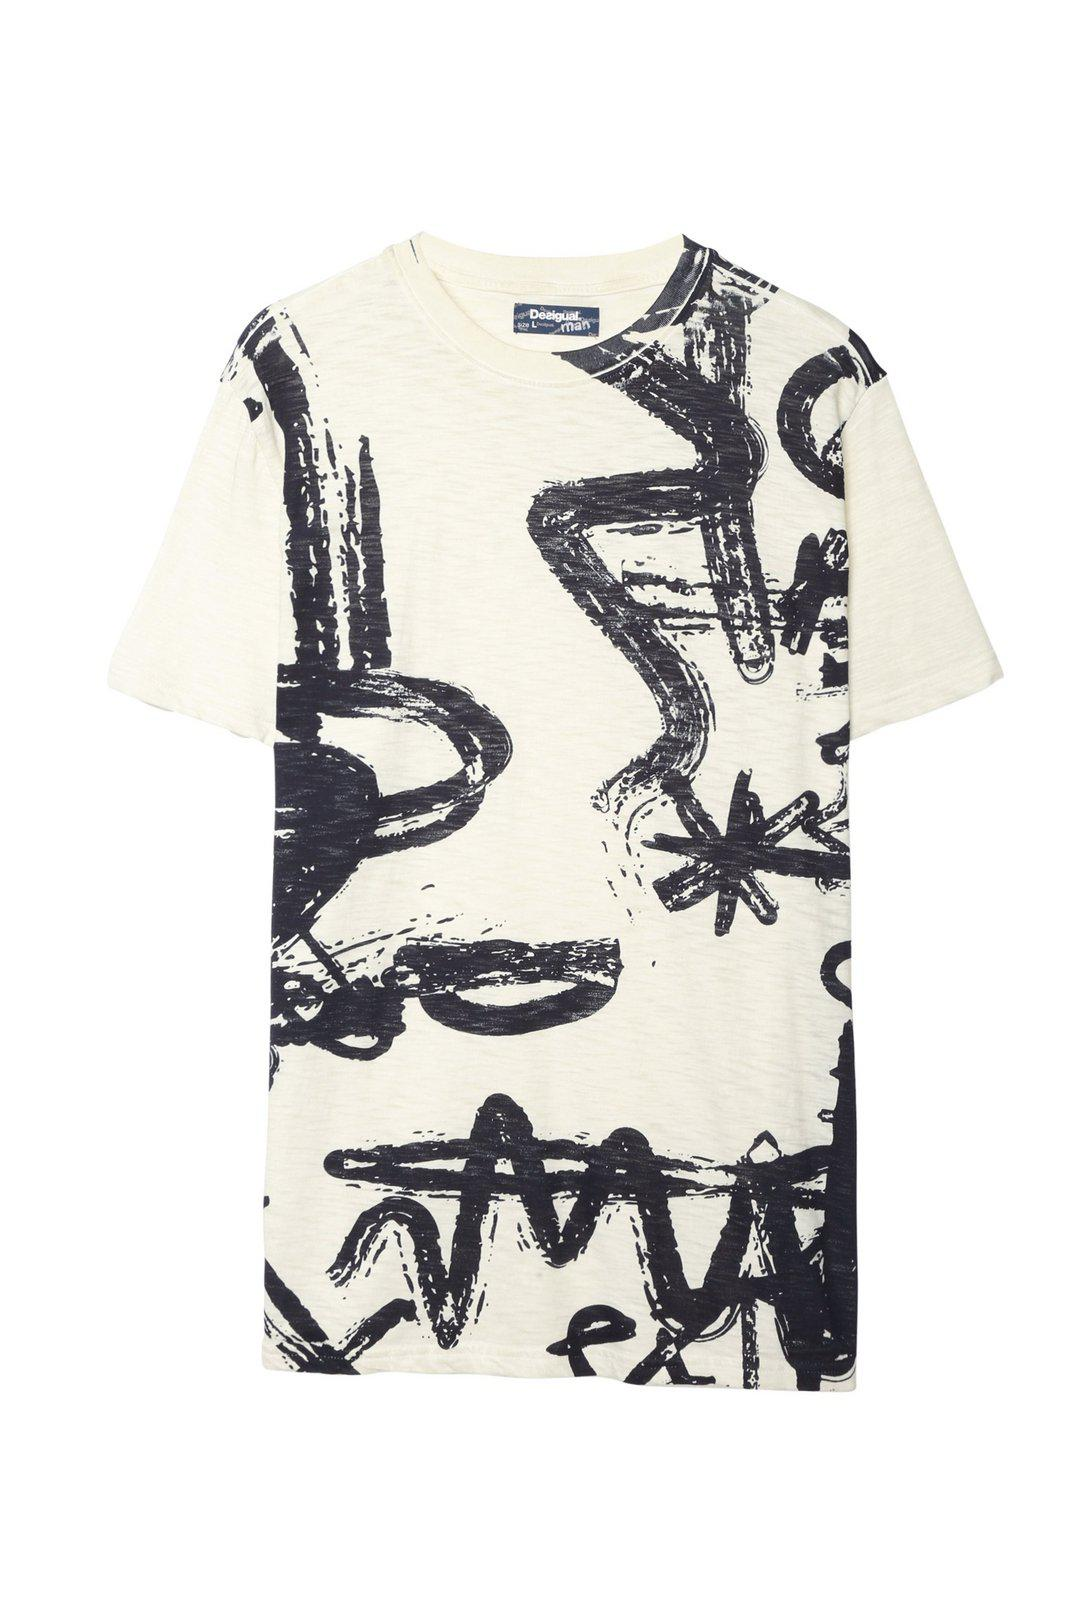teeshirt: (93, 207, 1031, 1450)
